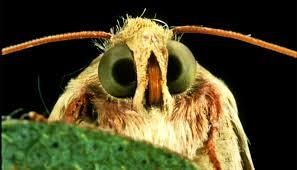insect: (0, 1, 297, 170)
